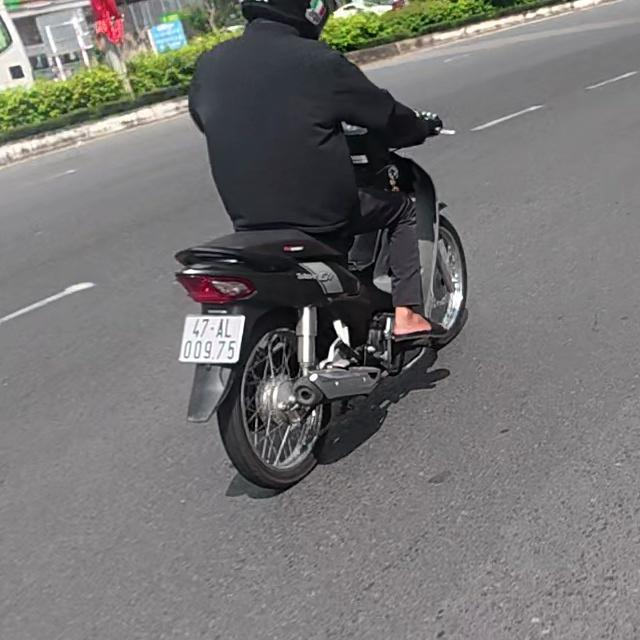license-plate: (178, 315, 246, 364)
